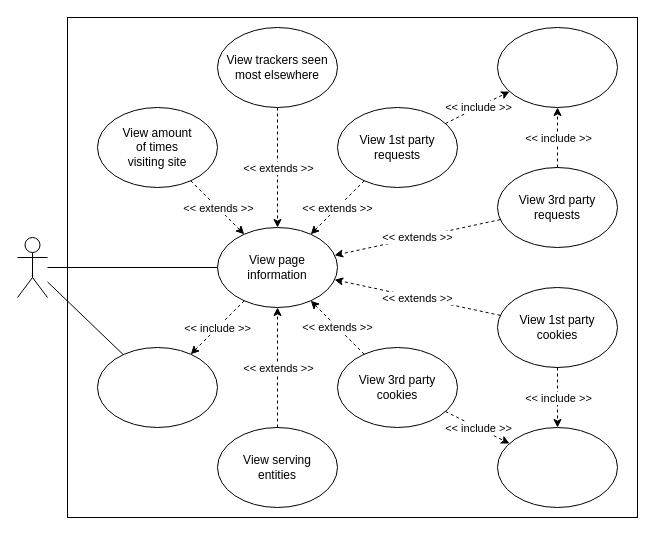
This 655x535 diagram has some shape labels left out. The box of each missing label's shape, as (x1, y1, x2, y2) in pixels:
Display cookie classification: (496, 426, 618, 508)
Display request classification: (496, 26, 618, 108)
User: (16, 236, 48, 298)
View website pages: (96, 346, 218, 428)
